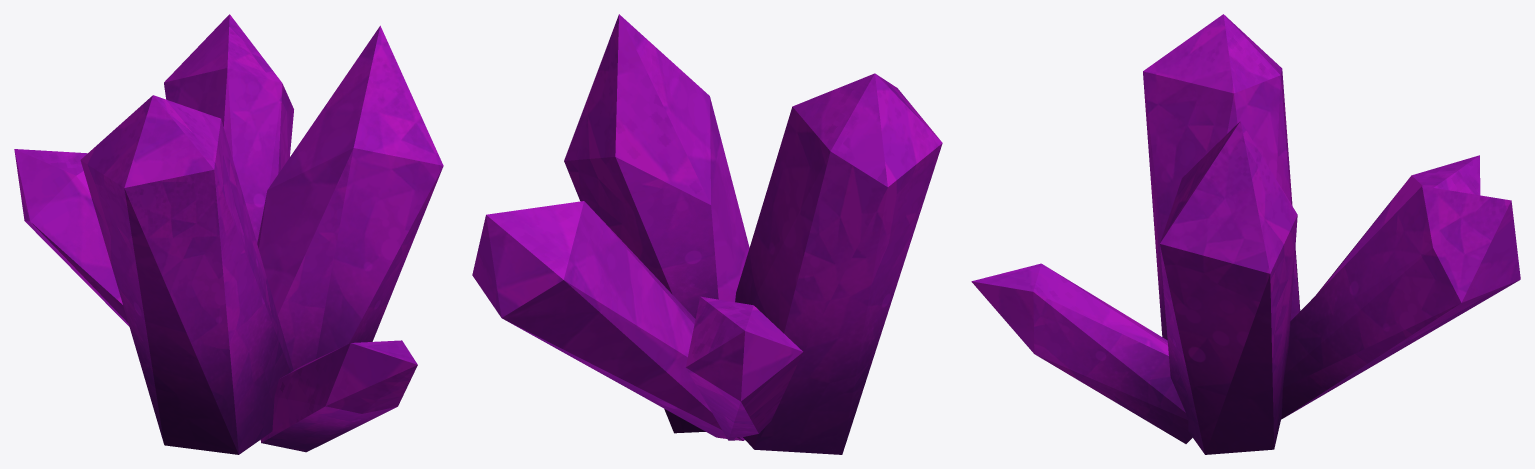
File: P_CLUSTER CRYSTAL2.fbx
3 renders of one model, left to right at view 1: azimuth 30°, elevation 25°; view 2: azimuth 150°, elevation 25°; view 3: azimuth 270°, elevation 25°, orthographic. The views are drawn at different scales.
Visible parts, largest first — view 1: Cluster Crystal_2; view 2: Cluster Crystal_2; view 3: Cluster Crystal_2.
Boxes of the visible parts, bbox=[...] form: Cluster Crystal_2: bbox=[14, 14, 443, 454]; Cluster Crystal_2: bbox=[472, 14, 942, 454]; Cluster Crystal_2: bbox=[971, 14, 1520, 454].
Bounding box in the file's own units: 274 × 312 × 418.
